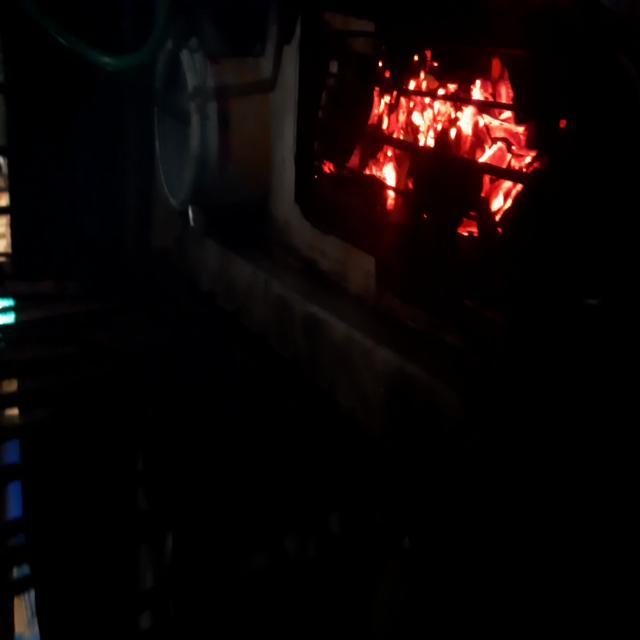Fire: (316, 34, 541, 251)
